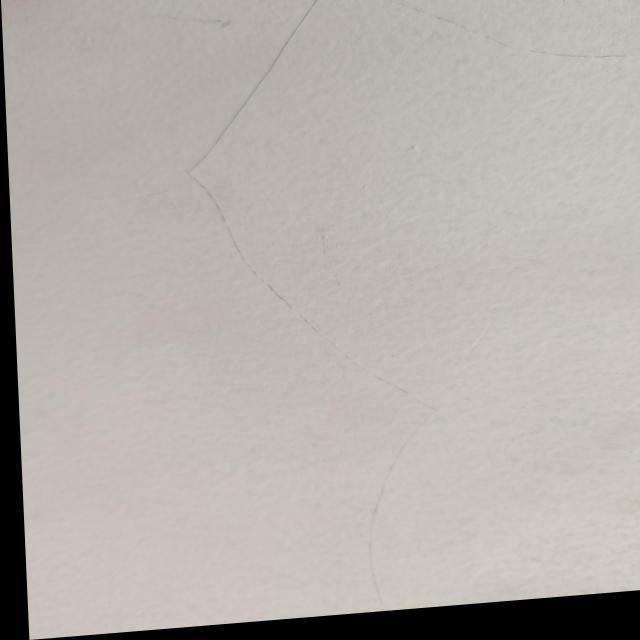Crack: (182, 1, 439, 592)
